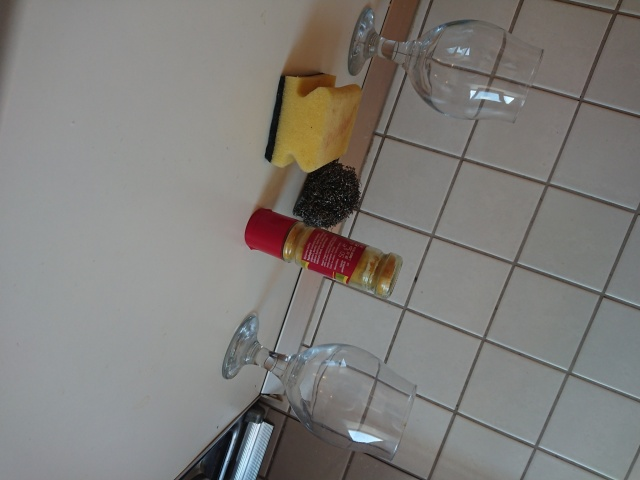Kotanyi Curry Spices Mix 70g: (242, 205, 405, 301)
